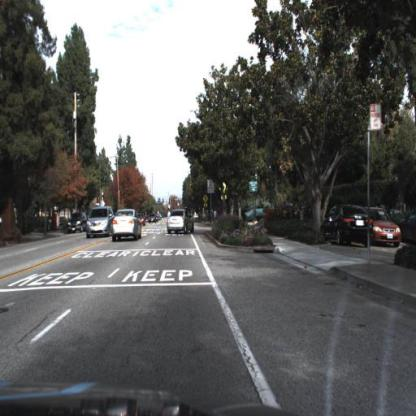car: (321, 203, 375, 246), (361, 206, 402, 249), (111, 209, 145, 243), (86, 206, 117, 238), (166, 208, 196, 235), (147, 210, 162, 229)
